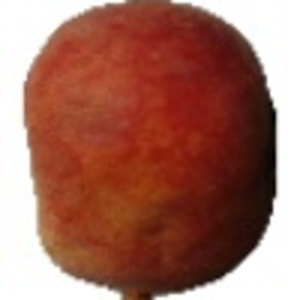pêssego: (1, 1, 278, 300)
